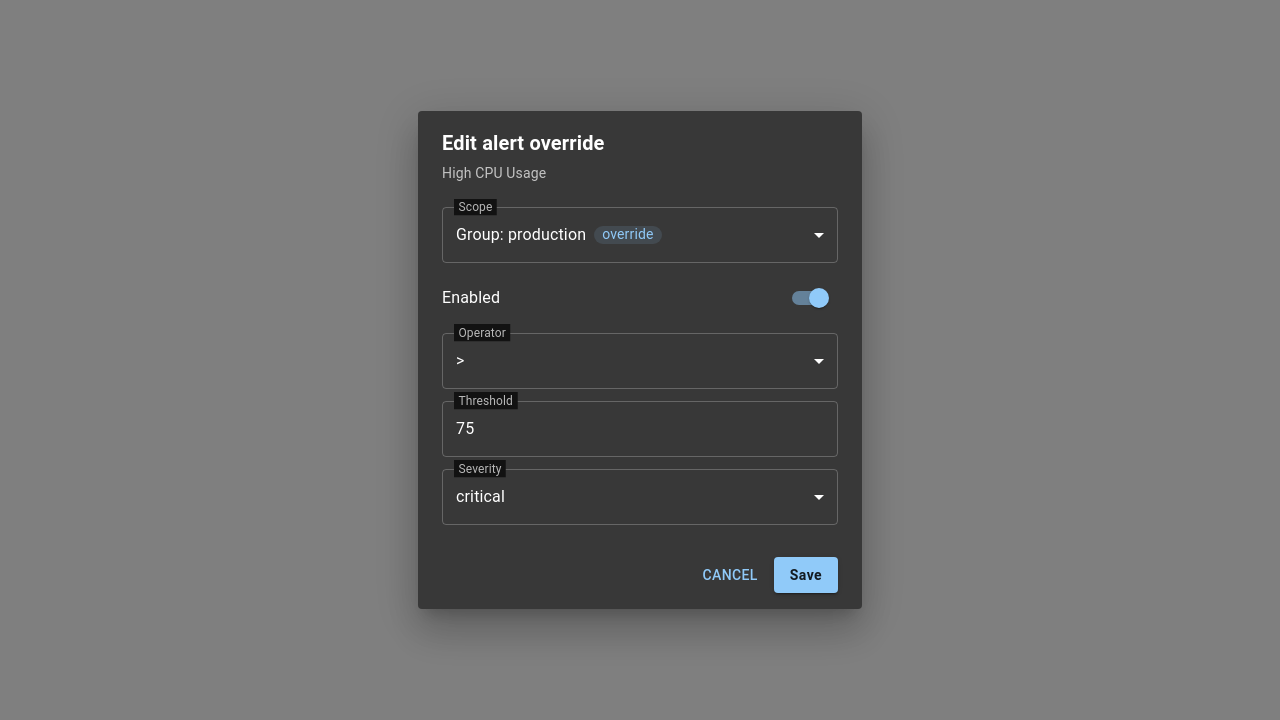
Scenario: AlertOverrideEditDialog › shows all scope options for full hierarchy
Expected: the text "High CPU Usage" is shown, [442,165,546,181]
Step 1. Press the mouse on the dropdown labelled "Group: production override" → (559, 235), box [456,225,662,244]
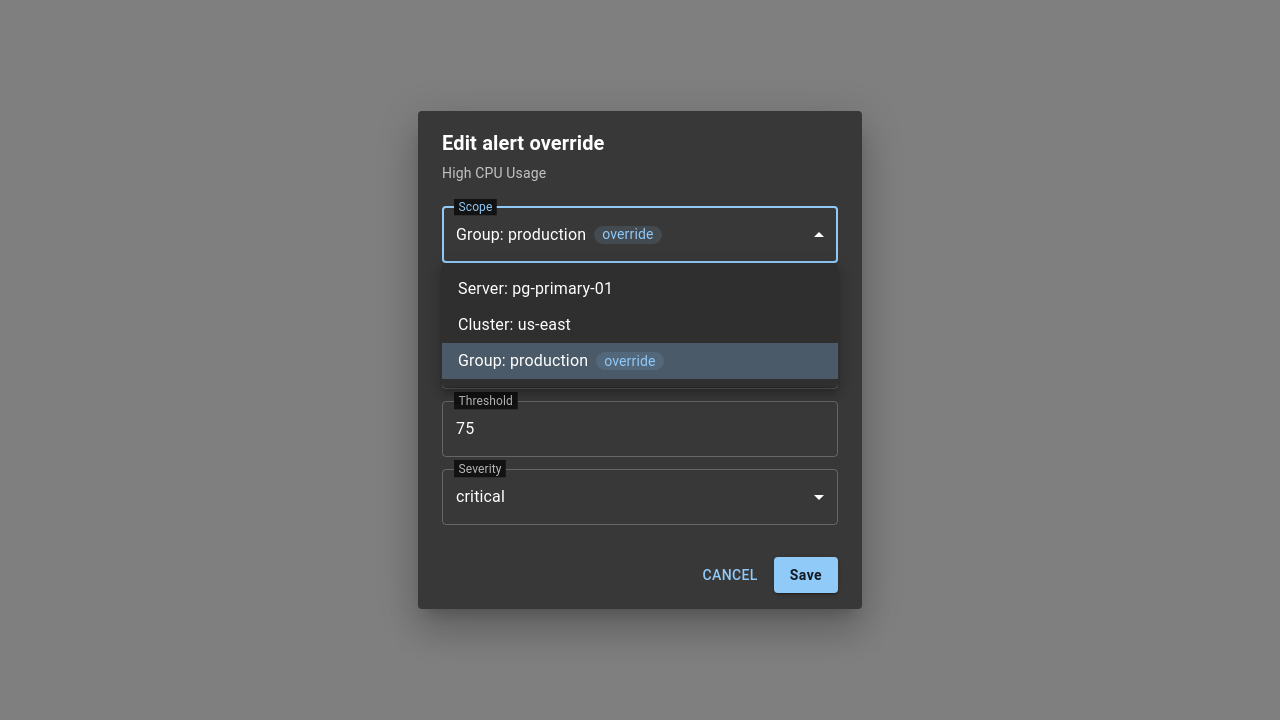
Expected: the list is shown, [442,263,838,387]
Expected: the text "Server: pg-primary-01" is shown, [458,277,613,301]
Expected: the text "Cluster: us-east" is shown, [458,313,571,337]
